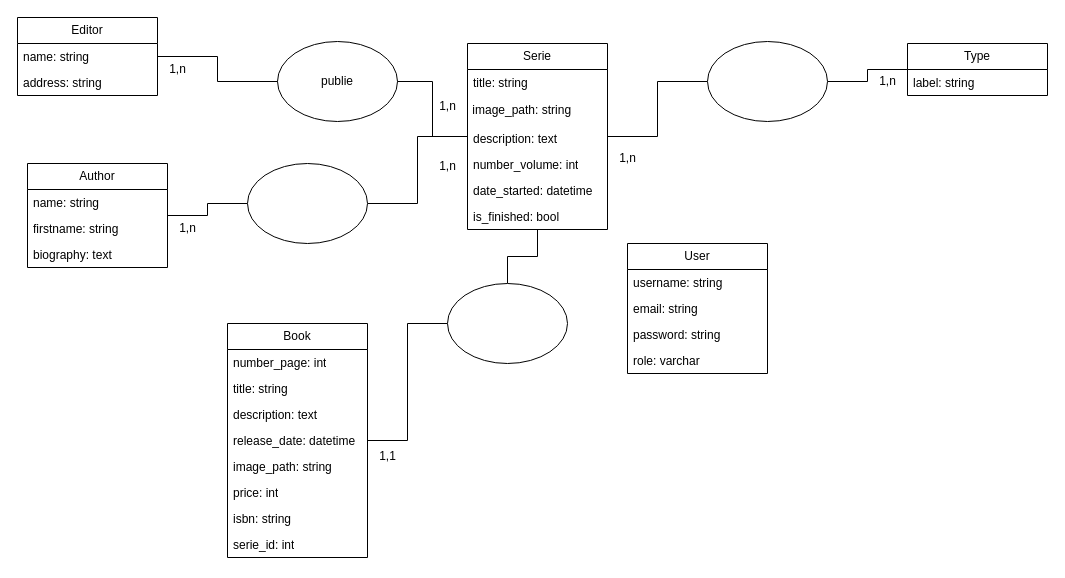
Image size: 1065x578. Some labels were removed from this diagram. Each missing label, with the centre of its shape:
appartient: (x=507, y=323)
est: (x=767, y=81)
écrit: (x=307, y=203)
